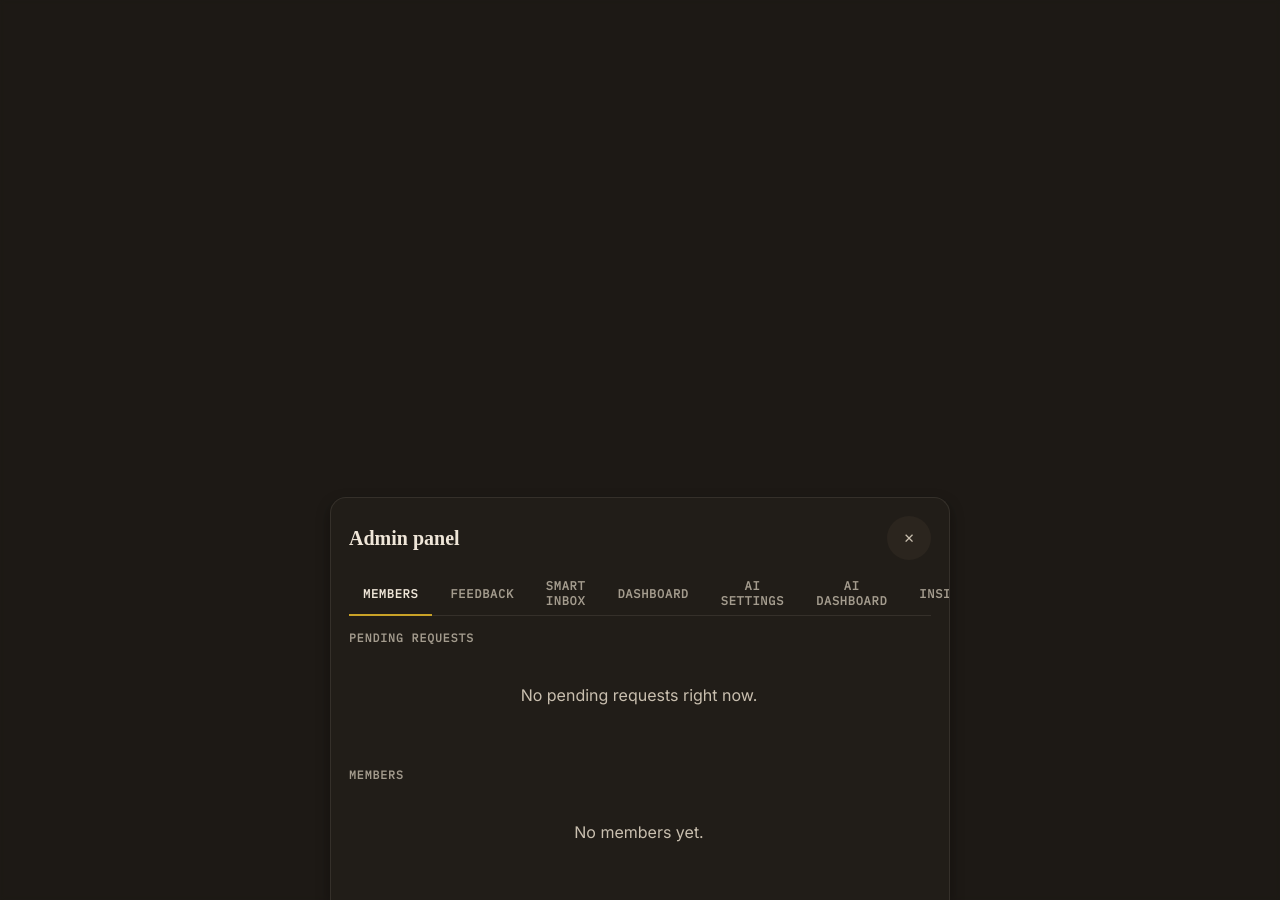
Scenario: Admin AI settings (#304) › loads and lists provider profiles with masked secrets
Click the tab "AI settings": (752, 594) [707,572,798,616]
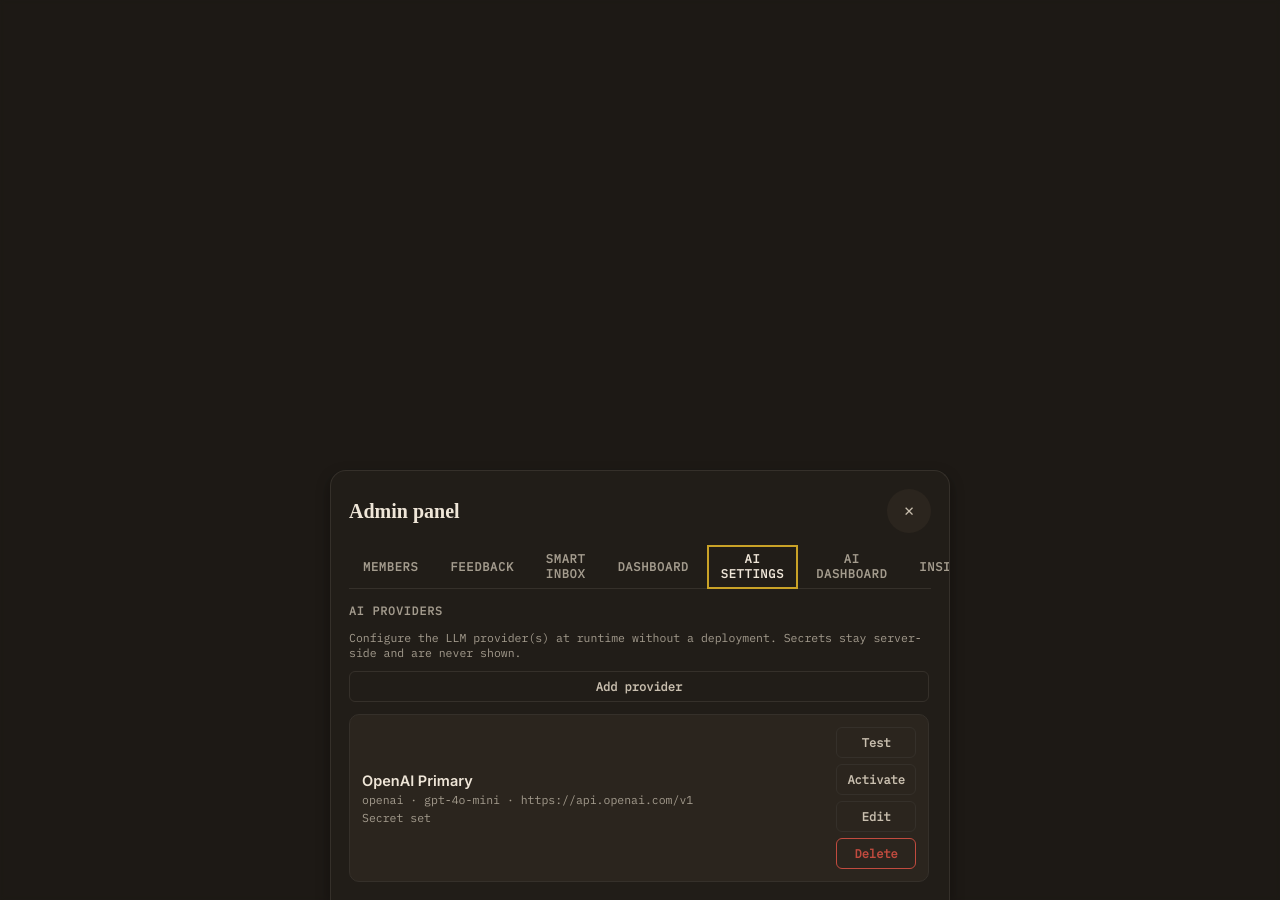
Check: the text "OpenAI Primary" is shown, box [362,772,473,788]
Check: the text "openai · gpt-4o-mini · https://api.openai.com/v1" is shown, box [362,792,693,806]
